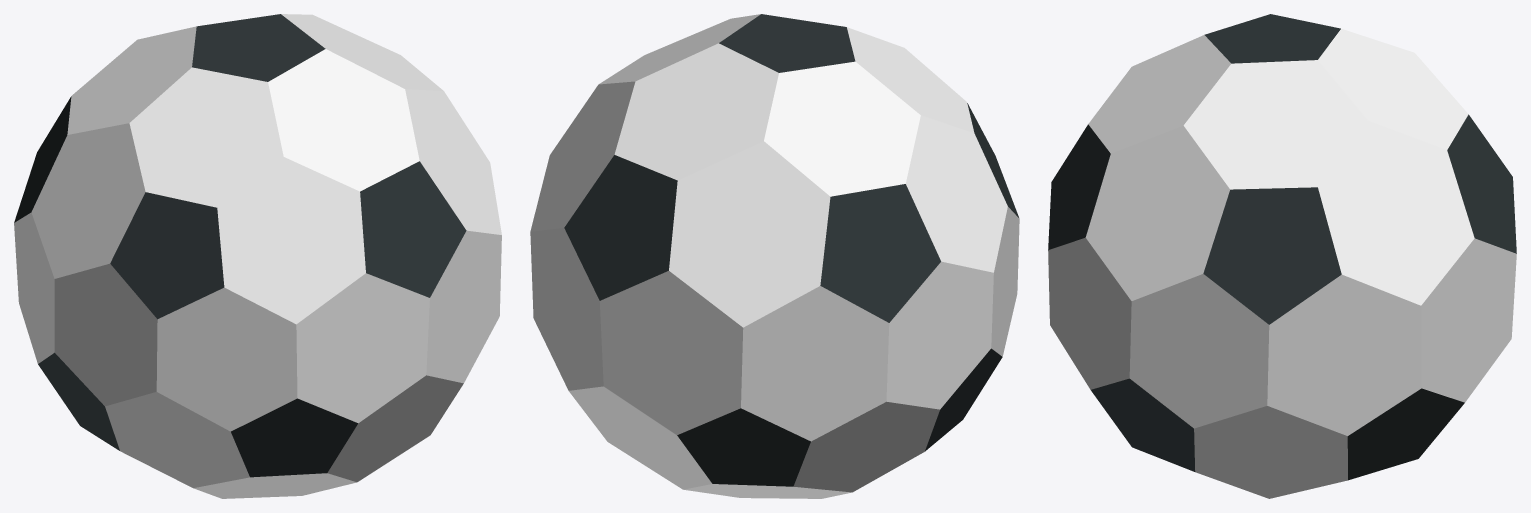
Rendered from FootBall.fbx.
3 renders of one model, left to right at view 1: azimuth 30°, elevation 25°; view 2: azimuth 150°, elevation 25°; view 3: azimuth 270°, elevation 25°, orthographic.
Parts seen in each view (by area): view 1: Icosphere; view 2: Icosphere; view 3: Icosphere.
Boxes of the visible parts, x1=… form: Icosphere: x1=14, y1=14, x2=501, y2=498; Icosphere: x1=530, y1=14, x2=1019, y2=498; Icosphere: x1=1048, y1=14, x2=1516, y2=498.
Bounding box in the file's own units: 39.48 × 38.96 × 38.33.
